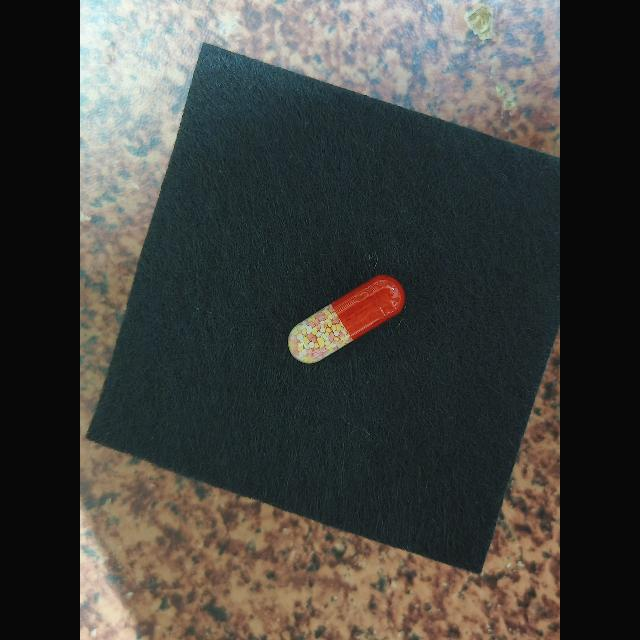Intact Capsule: (288, 275, 405, 364)
